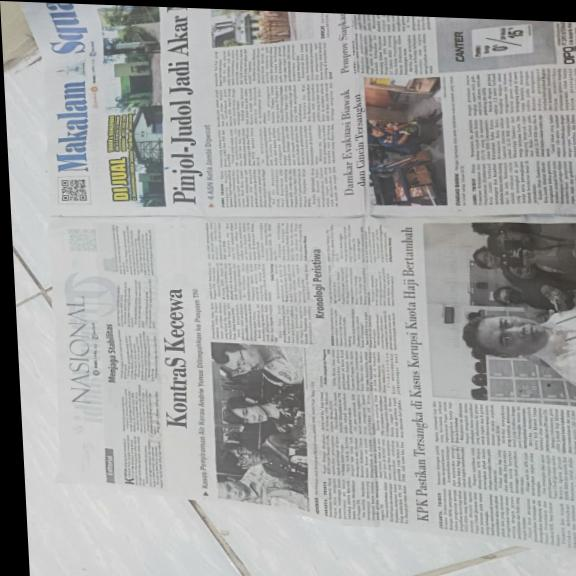Kertas: (43, 214, 397, 512), (21, 4, 364, 223), (395, 222, 576, 545), (369, 18, 576, 221)
